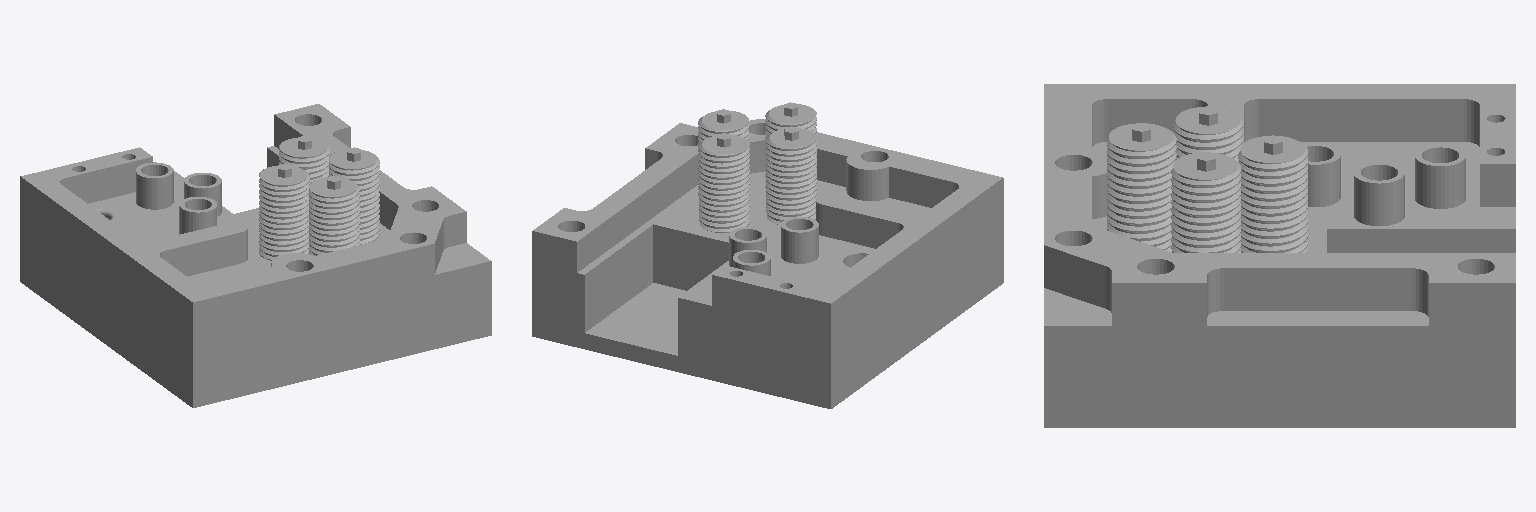
robot.urdf — engine_top_case:
<?xml version="1.0" ?>
<robot name="engine_top_case">
    <link name="baseLink">
        <contact>
            <lateral_friction value="0.3"/>
            <rolling_friction value="0.0"/>
            <contact_cfm value="0.0"/>
            <contact_erp value="1.0"/>
        </contact>

        <inertial>
            <origin xyz="0.0005498884367543897 -0.003288947624345052 0.07466510316754948" rpy="0 0 0"/>
            <mass value="44.205471364323145"/>
            <inertia ixx="0.232184" iyy="0.240203" izz="0.293582" ixy="0.000162" iyz="0.00478" ixz="-0.000661"/>
        </inertial>
        <visual>
            <origin xyz="0 0 0" rpy="0 0 0"/>
            <geometry>
                <mesh filename="engine_top_case.stl" scale="0.001 0.001 0.001"/>
            </geometry>
            <material name="silver">
                <color rgba="0.700 0.700 0.700 1.000"/>
            </material>
        </visual>
        <collision concave="yes">
            <origin xyz="0 0 0" rpy="0 0 0"/>
            <geometry>
                <mesh filename="engine_top_case.stl" scale="0.001 0.001 0.001"/>
            </geometry>
        </collision>
    </link>
</robot>

--- Facts derived from the render (not from the file) ---
3 views of the same robot in one strip: view 1: azimuth 30°, elevation 25°; view 2: azimuth 150°, elevation 25°; view 3: azimuth 270°, elevation 25° (orthographic).
Model engine_top_case with 1 links and 0 joints (none), rooted at baseLink, posed every joint at zero.
Links seen in each view (by area): view 1: baseLink; view 2: baseLink; view 3: baseLink.
Link boxes in pixels (box(x1,y1,x2,y2)): baseLink: box(20, 104, 491, 407); baseLink: box(532, 102, 1003, 408); baseLink: box(1044, 84, 1515, 427).
Bounding box of the posed robot: 0.2 × 0.2 × 0.1027 m (x, y, z).
1 mesh visuals loaded from 1 distinct referenced files (1 binary STL).